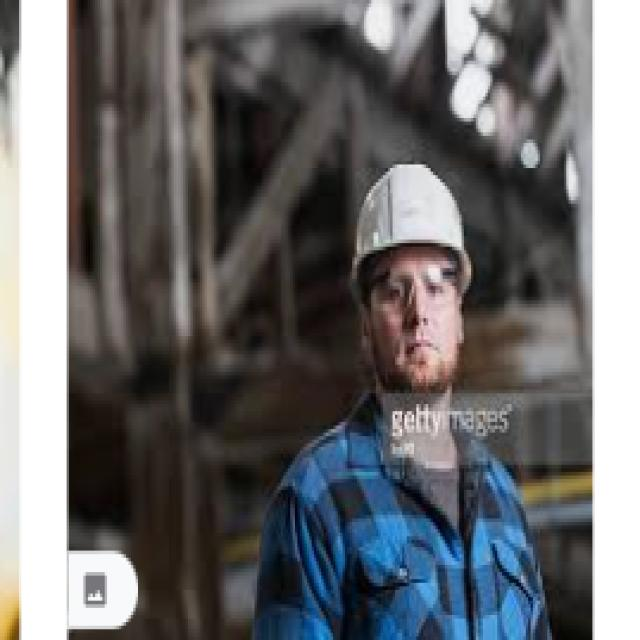glasses: (366, 257, 464, 315)
